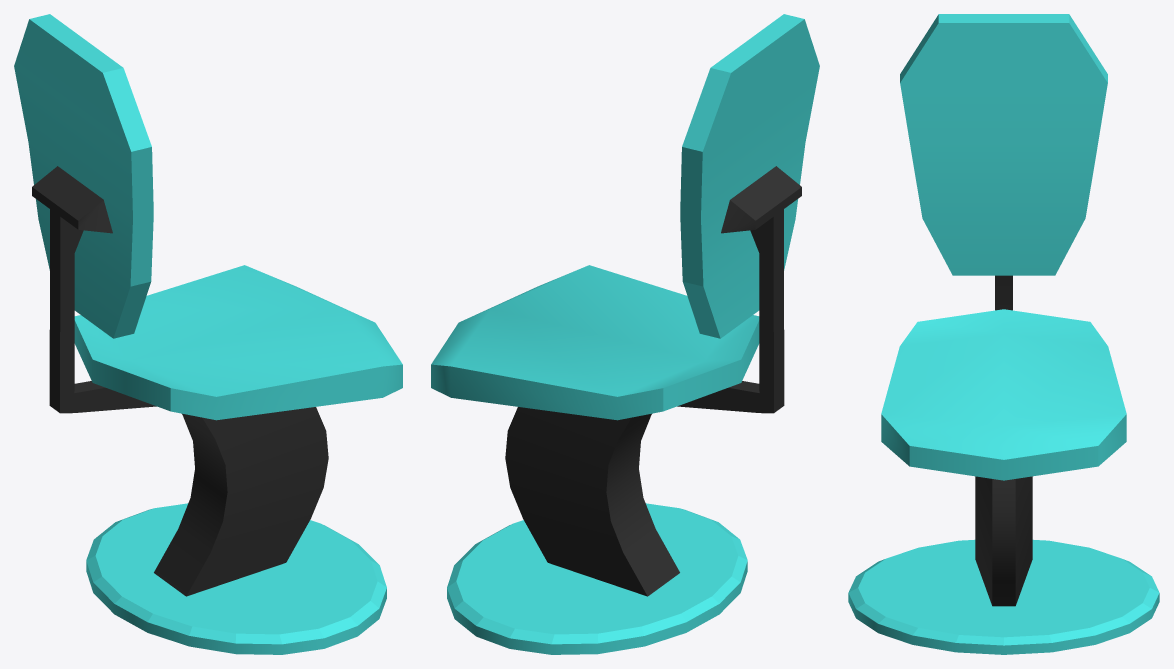
The model's file is Chair.FBX.
3 views of the same model, side by side, from view 1: azimuth 30°, elevation 25°; view 2: azimuth 150°, elevation 25°; view 3: azimuth 270°, elevation 25° (orthographic). The views are drawn at different scales.
Parts seen in each view (by area): view 1: Cylinder005; view 2: Cylinder005; view 3: Cylinder005.
Part boxes in pixels (left/top/right/bottom): Cylinder005: left=14, top=14, right=402, bottom=654; Cylinder005: left=431, top=14, right=819, bottom=654; Cylinder005: left=848, top=14, right=1159, bottom=654.
Bounding box in the file's own units: 27.79 × 48.24 × 26.36.
Materials: 2 (1 with a texture image).
